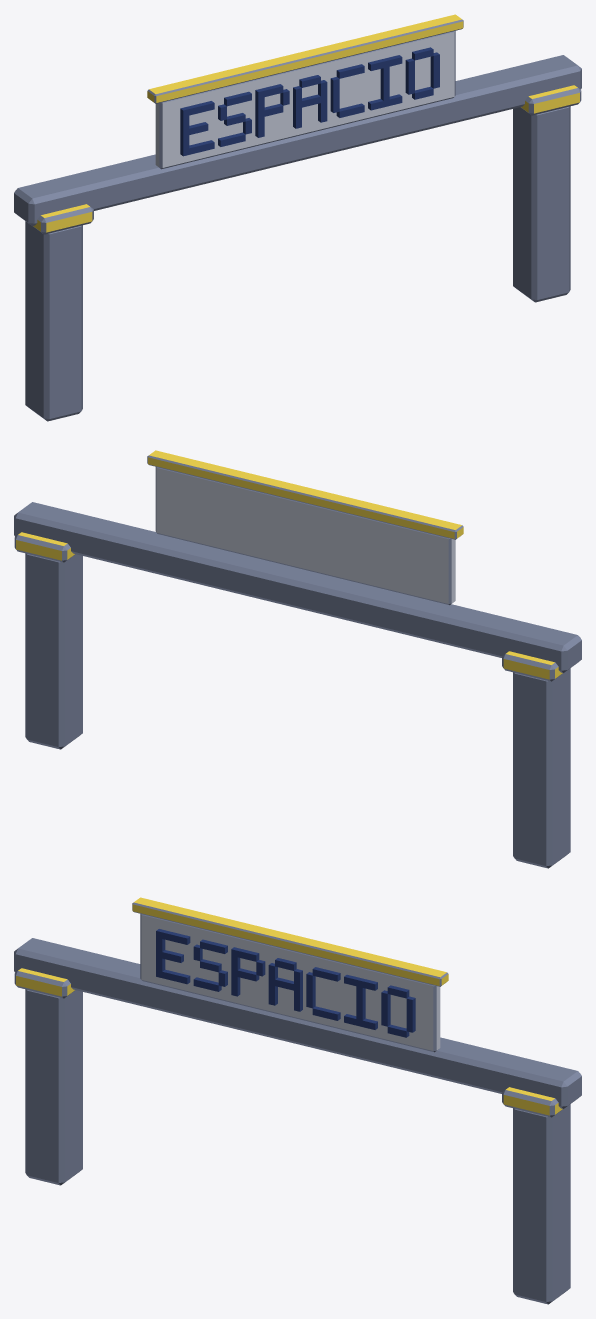
File: espacio_Arco.glb
3 views of the same model, one above another, from view 1: azimuth 30°, elevation 25°; view 2: azimuth 150°, elevation 25°; view 3: azimuth 330°, elevation 25° (orthographic).
Parts seen in each view (by area): view 1: Mapa_espacio_Arco; view 2: Mapa_espacio_Arco; view 3: Mapa_espacio_Arco.
Part boxes in pixels (bbox=[...]): Mapa_espacio_Arco: bbox=[14, 14, 581, 421]; Mapa_espacio_Arco: bbox=[14, 450, 581, 868]; Mapa_espacio_Arco: bbox=[14, 897, 581, 1304].
Bounding box in the file's own units: 84 × 43.9 × 8.
1 material, 1 textured.
